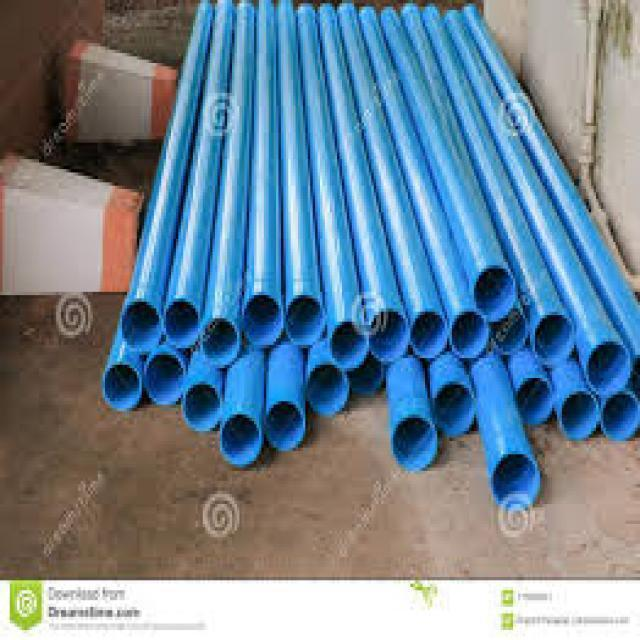pipe: (492, 455, 542, 510), (143, 345, 186, 406), (393, 418, 438, 472), (475, 267, 517, 322), (587, 342, 631, 393), (307, 365, 350, 417), (220, 415, 262, 468), (434, 384, 475, 438), (370, 311, 410, 364), (244, 295, 283, 348), (491, 301, 529, 355), (265, 402, 306, 452), (201, 318, 241, 368), (121, 302, 160, 353), (561, 392, 601, 440), (603, 391, 640, 442), (287, 296, 324, 346), (536, 315, 575, 362), (331, 322, 369, 370), (517, 378, 554, 426), (452, 312, 490, 358), (183, 385, 220, 432), (103, 365, 140, 410), (412, 312, 448, 358), (165, 301, 199, 348)
